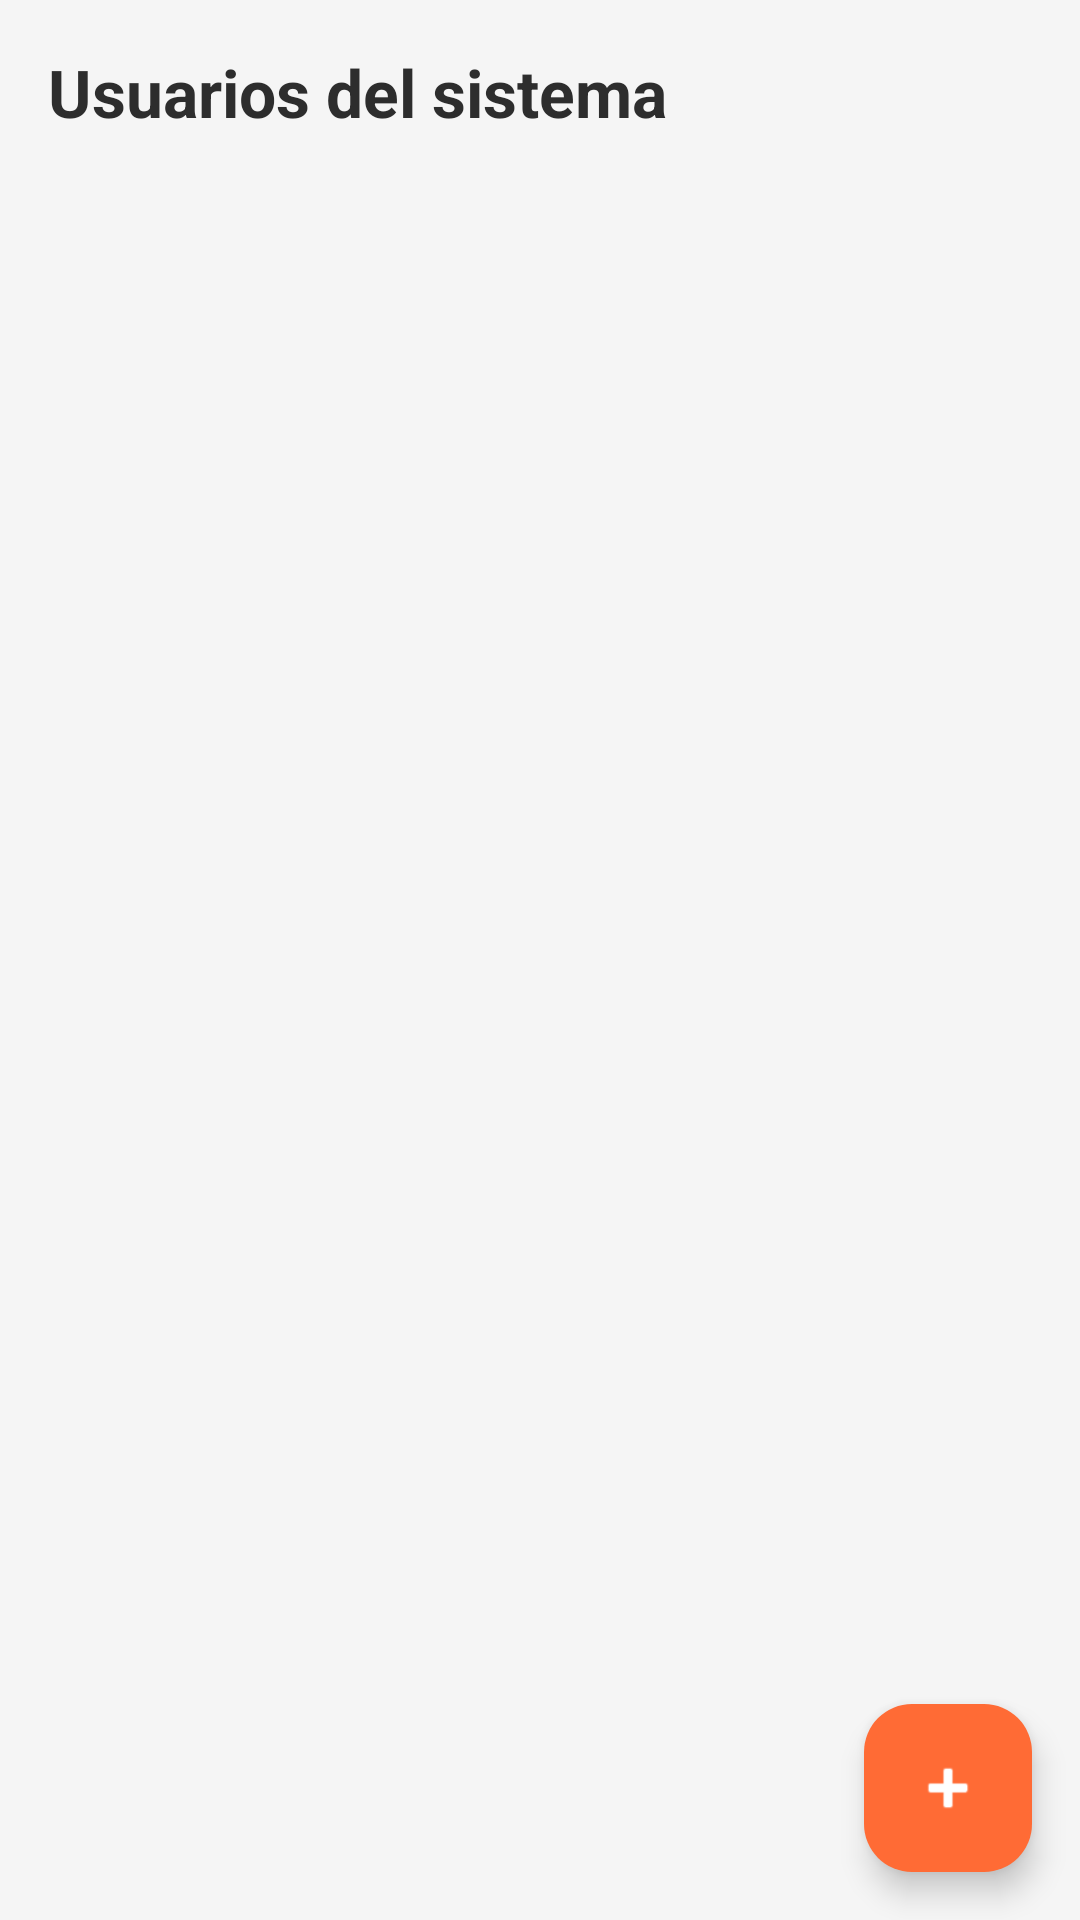

Locate icon controls on the screen. Image size 1080*1920, boxes as (x1,y1,x2,y2).
Agregar usuario: (864,1704,1032,1872)
